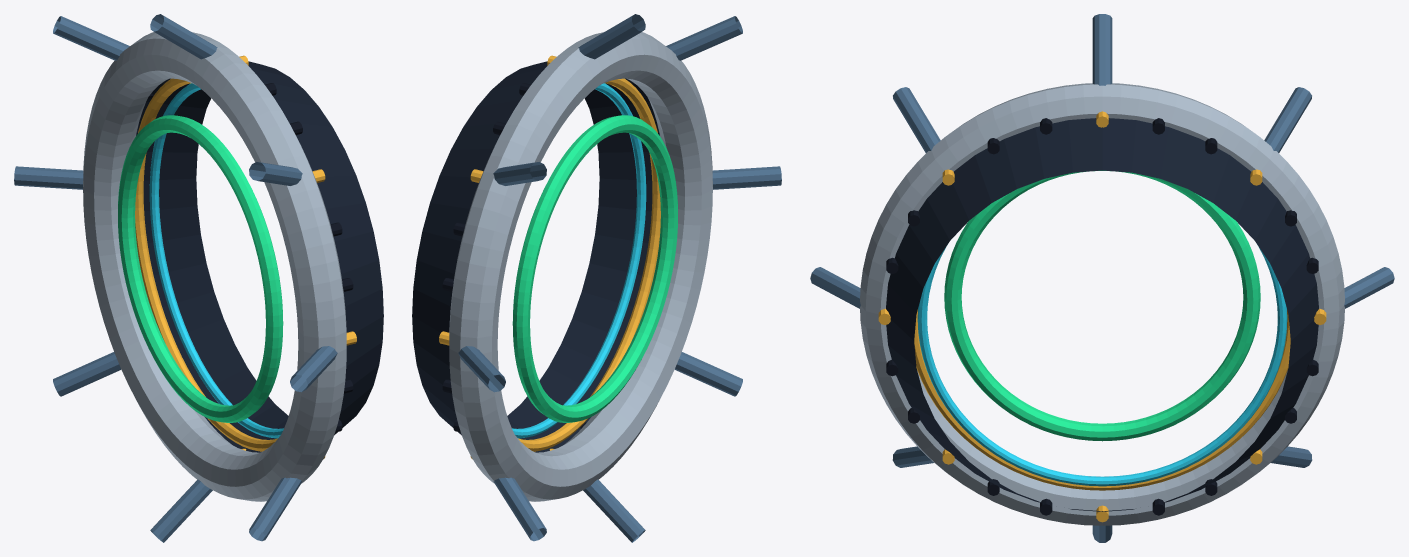
The model's file is 03_L85_StationPrimaryDockingPort.fbx.
3 renders of one model, left to right at view 1: azimuth 30°, elevation 25°; view 2: azimuth 150°, elevation 25°; view 3: azimuth 270°, elevation 25°, orthographic.
Visible parts, largest first — view 1: L85_StationPrimaryDockingPort_Part_0000, L85_StationPrimaryDockingPort, L85_StationPrimaryDockingPort_Part_0007, L85_StationPrimaryDockingPort_Part_0005, L85_StationPrimaryDockingPort_Part_0001, L85_StationPrimaryDockingPort_Part_0002, L85_StationPrimaryDockingPort_Part_0003; view 2: L85_StationPrimaryDockingPort_Part_0000, L85_StationPrimaryDockingPort, L85_StationPrimaryDockingPort_Part_0007, L85_StationPrimaryDockingPort_Part_0005, L85_StationPrimaryDockingPort_Part_0001, L85_StationPrimaryDockingPort_Part_0002, L85_StationPrimaryDockingPort_Part_0003; view 3: L85_StationPrimaryDockingPort_Part_0000, L85_StationPrimaryDockingPort, L85_StationPrimaryDockingPort_Part_0007, L85_StationPrimaryDockingPort_Part_0005, L85_StationPrimaryDockingPort_Part_0002, L85_StationPrimaryDockingPort_Part_0001, L85_StationPrimaryDockingPort_Part_0003.
Part boxes in pixels (x1,y1,x2,y2): L85_StationPrimaryDockingPort_Part_0000: (83, 32, 346, 501); L85_StationPrimaryDockingPort: (137, 61, 383, 452); L85_StationPrimaryDockingPort_Part_0007: (118, 115, 283, 422); L85_StationPrimaryDockingPort_Part_0005: (14, 14, 337, 542); L85_StationPrimaryDockingPort_Part_0001: (135, 55, 356, 459); L85_StationPrimaryDockingPort_Part_0002: (149, 83, 283, 438); L85_StationPrimaryDockingPort_Part_0003: (136, 83, 353, 432); L85_StationPrimaryDockingPort_Part_0000: (449, 32, 712, 501); L85_StationPrimaryDockingPort: (412, 61, 658, 452); L85_StationPrimaryDockingPort_Part_0007: (512, 115, 677, 422); L85_StationPrimaryDockingPort_Part_0005: (458, 14, 781, 542); L85_StationPrimaryDockingPort_Part_0001: (439, 55, 660, 459); L85_StationPrimaryDockingPort_Part_0002: (512, 83, 646, 438); L85_StationPrimaryDockingPort_Part_0003: (442, 93, 659, 432); L85_StationPrimaryDockingPort_Part_0000: (860, 83, 1344, 525); L85_StationPrimaryDockingPort: (886, 118, 1318, 511); L85_StationPrimaryDockingPort_Part_0007: (944, 170, 1260, 441); L85_StationPrimaryDockingPort_Part_0005: (810, 14, 1394, 542); L85_StationPrimaryDockingPort_Part_0002: (917, 244, 1287, 486); L85_StationPrimaryDockingPort_Part_0001: (878, 111, 1326, 522); L85_StationPrimaryDockingPort_Part_0003: (886, 118, 1318, 515).
Bounding box in the file's own units: 115 × 418 × 419.
